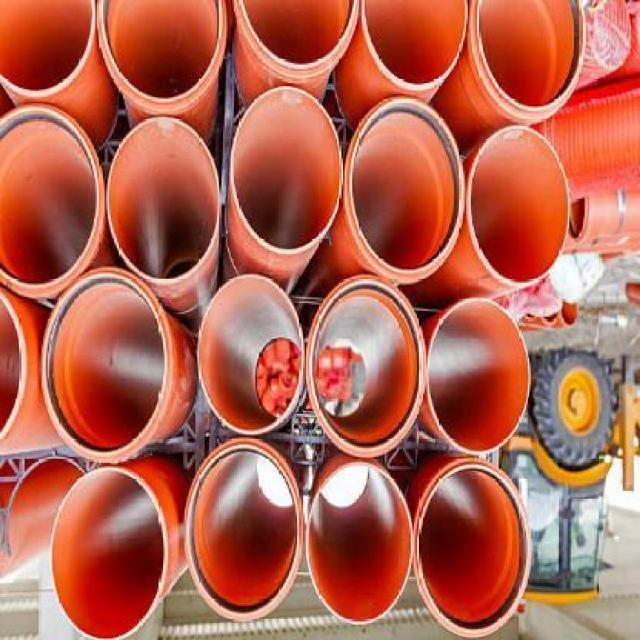pipe: (42, 270, 168, 459), (306, 274, 426, 457), (417, 457, 531, 639), (185, 442, 301, 619), (348, 97, 463, 273), (51, 468, 165, 639), (229, 86, 343, 254), (106, 116, 220, 282), (305, 462, 414, 627), (2, 105, 100, 284), (197, 274, 303, 434), (426, 297, 531, 454), (469, 123, 569, 285), (97, 0, 223, 102), (474, 0, 587, 111), (362, 0, 468, 88), (0, 2, 96, 93), (238, 2, 357, 70)
